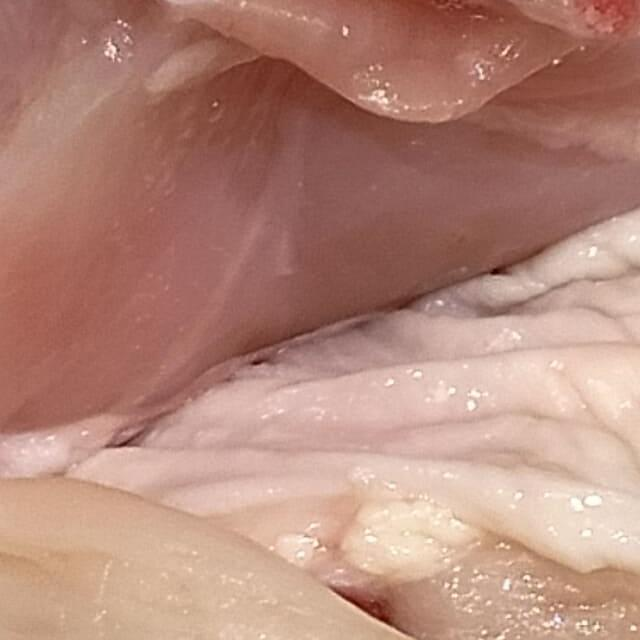chicken: (0, 0, 640, 640), (0, 483, 640, 640)
